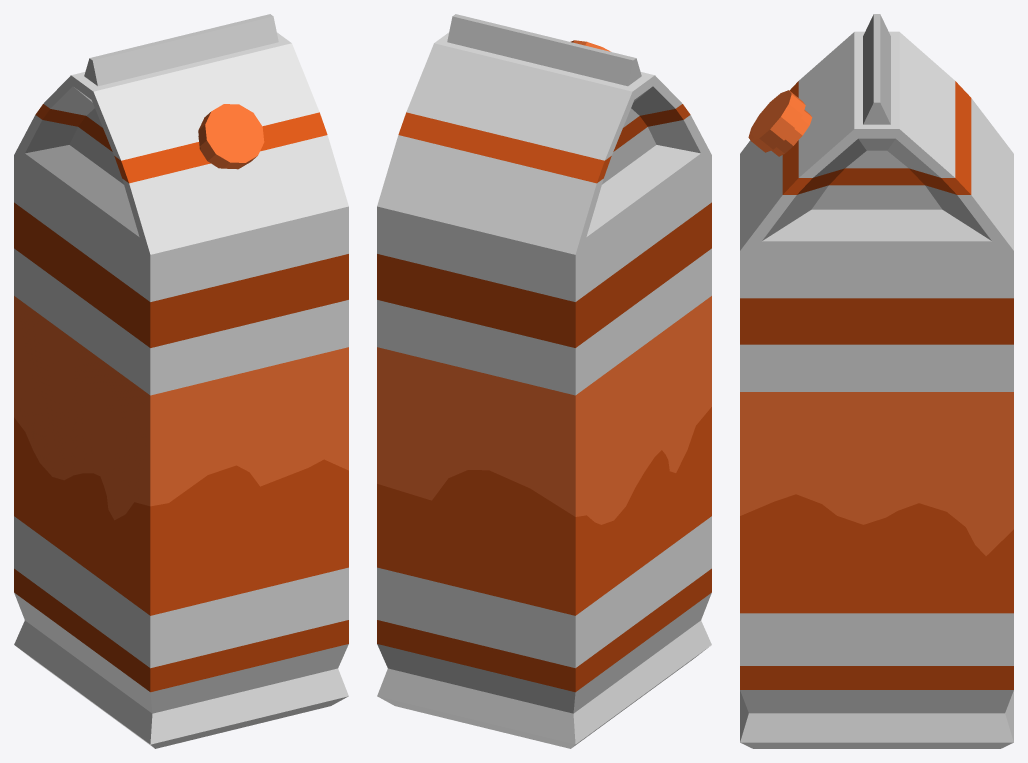
The model's file is mesh_juice.fbx.
3 views of the same model, side by side, from view 1: azimuth 30°, elevation 25°; view 2: azimuth 150°, elevation 25°; view 3: azimuth 270°, elevation 25° (orthographic).
Visible parts, largest first — view 1: mesh_juice; view 2: mesh_juice; view 3: mesh_juice.
Boxes of the visible parts, x1,y1,x2,y2 form: mesh_juice: (14,14,348,748); mesh_juice: (377,14,711,748); mesh_juice: (740,14,1013,748).
Bounding box in the file's own units: 0.2 × 0.6212 × 0.2381.
